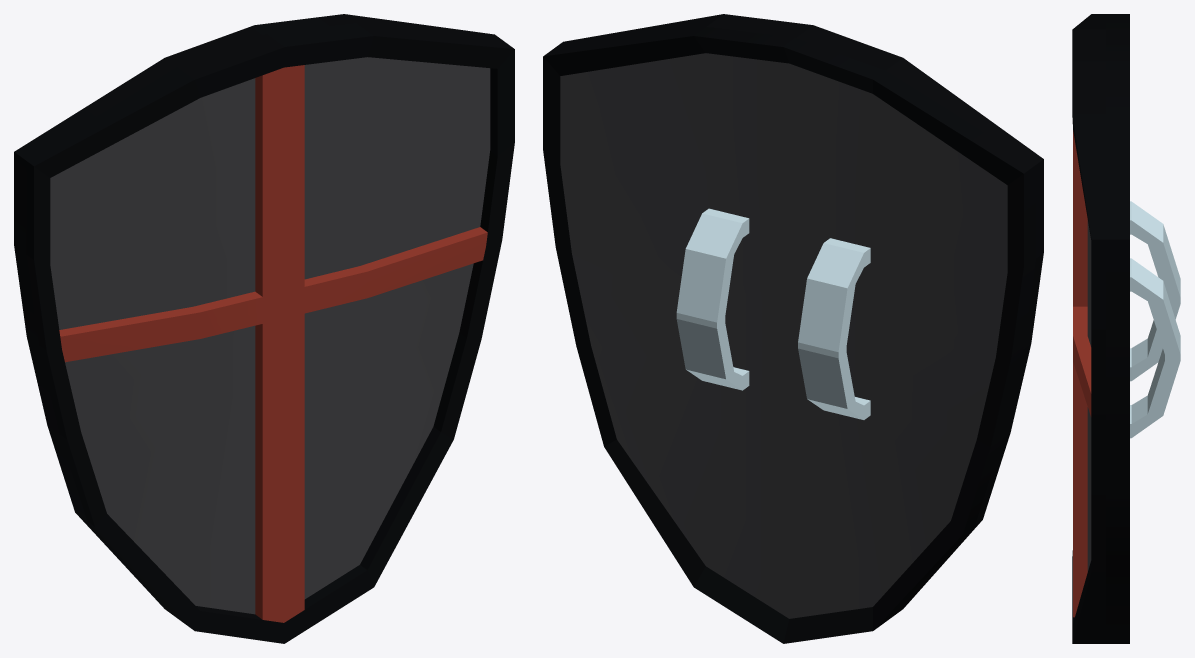
File: Escudo.fbx
The picture shows the model from 3 angles, left to right: view 1: azimuth 30°, elevation 25°; view 2: azimuth 150°, elevation 25°; view 3: azimuth 270°, elevation 25°; orthographic projection. The views are drawn at different scales.
Visible parts, largest first — view 1: Escudo; view 2: Escudo; view 3: Escudo.
Boxes of the visible parts, x1,y1,x2,y2 form: Escudo: (14,14,514,643); Escudo: (543,14,1043,643); Escudo: (1072,14,1180,643).
Size of the model in its own units: 2.95 by 3.5 by 0.5989.
